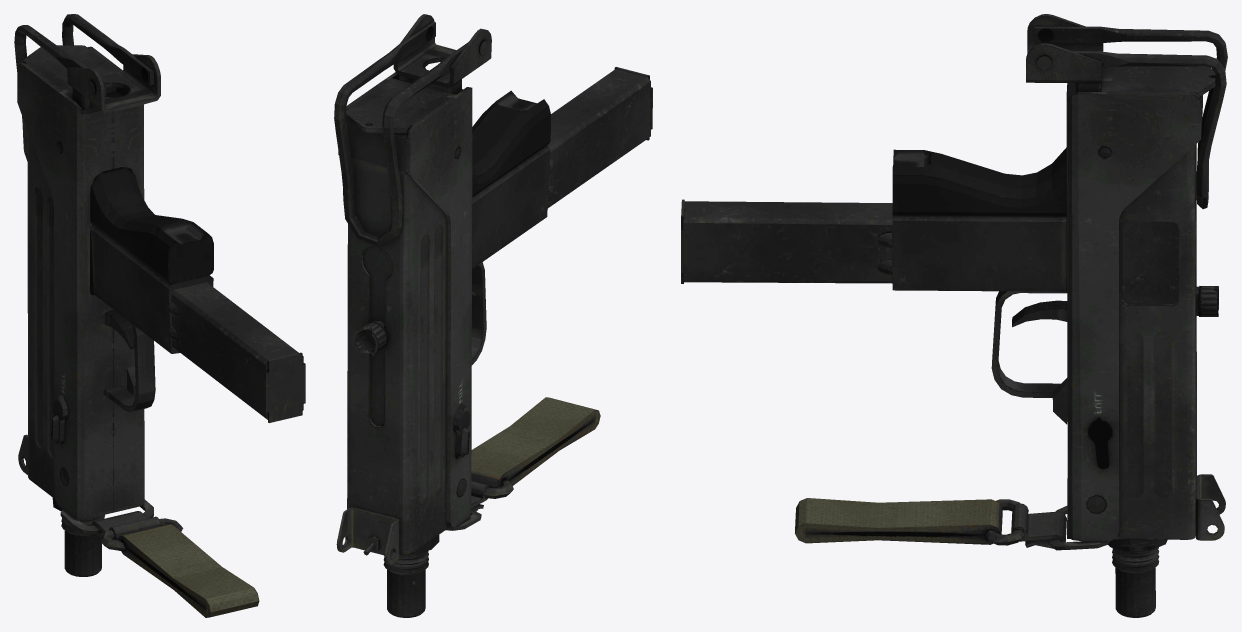
File: w_smg_mac10.obj
3 views of the same model, side by side, from view 1: azimuth 30°, elevation 25°; view 2: azimuth 150°, elevation 25°; view 3: azimuth 270°, elevation 25° (orthographic). The views are drawn at different scales.
Bounding box in the file's own units: 0.0212 × 0.1305 × 0.1115.
1 material, 1 textured.
